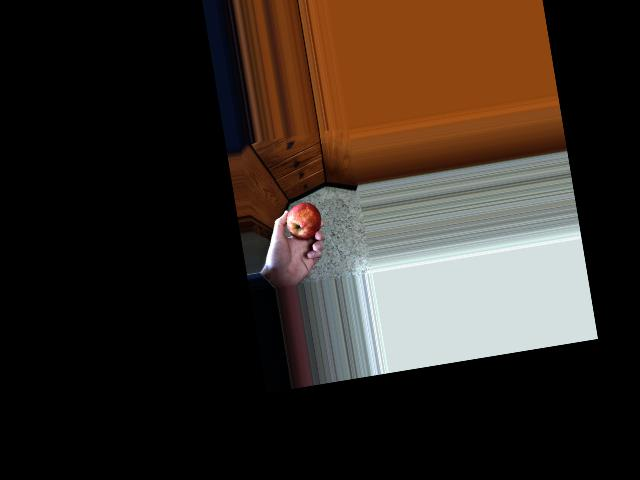apple: (277, 199, 325, 253)
